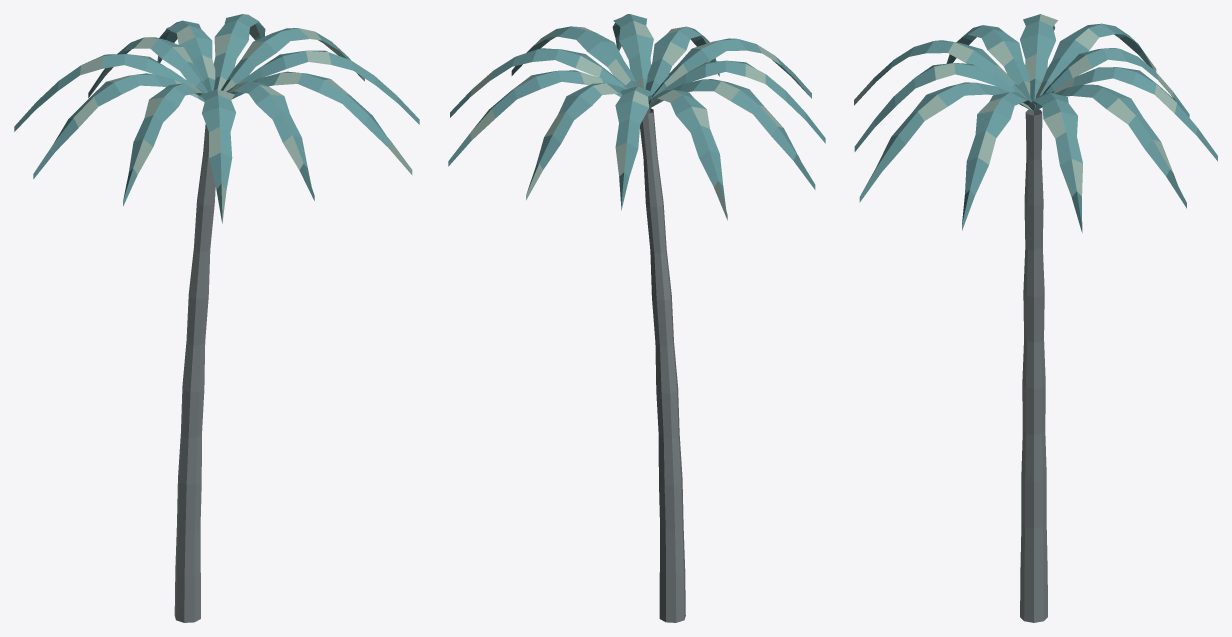
The model's file is palm-2.glb.
3 views of the same model, side by side, from view 1: azimuth 30°, elevation 25°; view 2: azimuth 150°, elevation 25°; view 3: azimuth 270°, elevation 25° (orthographic). The views are drawn at different scales.
Parts seen in each view (by area): view 1: Palm_Crown_2, Palm_Trunk_2; view 2: Palm_Crown_2, Palm_Trunk_2; view 3: Palm_Crown_2, Palm_Trunk_2.
Part boxes in pixels (left/top/right/bottom): Palm_Crown_2: left=14, top=14, right=419, bottom=223; Palm_Trunk_2: left=174, top=124, right=215, bottom=622; Palm_Crown_2: left=448, top=14, right=825, bottom=220; Palm_Trunk_2: left=640, top=108, right=685, bottom=622; Palm_Crown_2: left=854, top=14, right=1217, bottom=232; Palm_Trunk_2: left=1020, top=109, right=1047, bottom=622.
Bounding box in the file's own units: 4.15 × 6.27 × 3.63.
